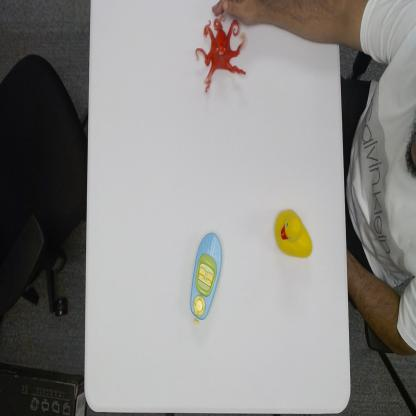Boat: (190, 230, 223, 324)
Duck: (272, 206, 314, 261)
Hand: (209, 0, 288, 27)
Octopus: (194, 14, 248, 94)
